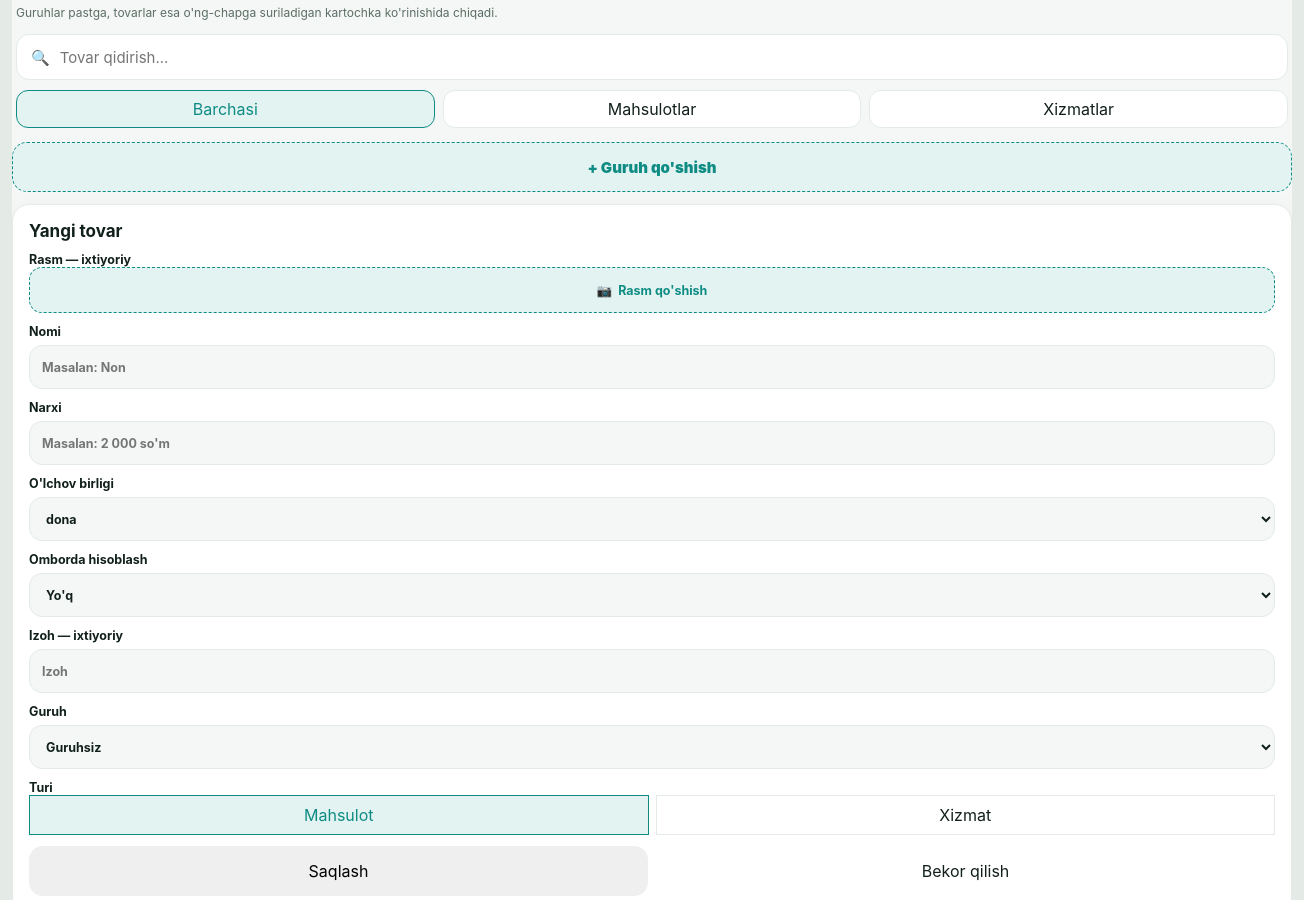
Test: v1656 mahsulot va xizmatlar pariteti › bo'sh mahsulot nomida monolitdagi xatoni ko'rsatadi
Click the button "Saqlash". click: (338, 871)
box: [29,846,648,896]
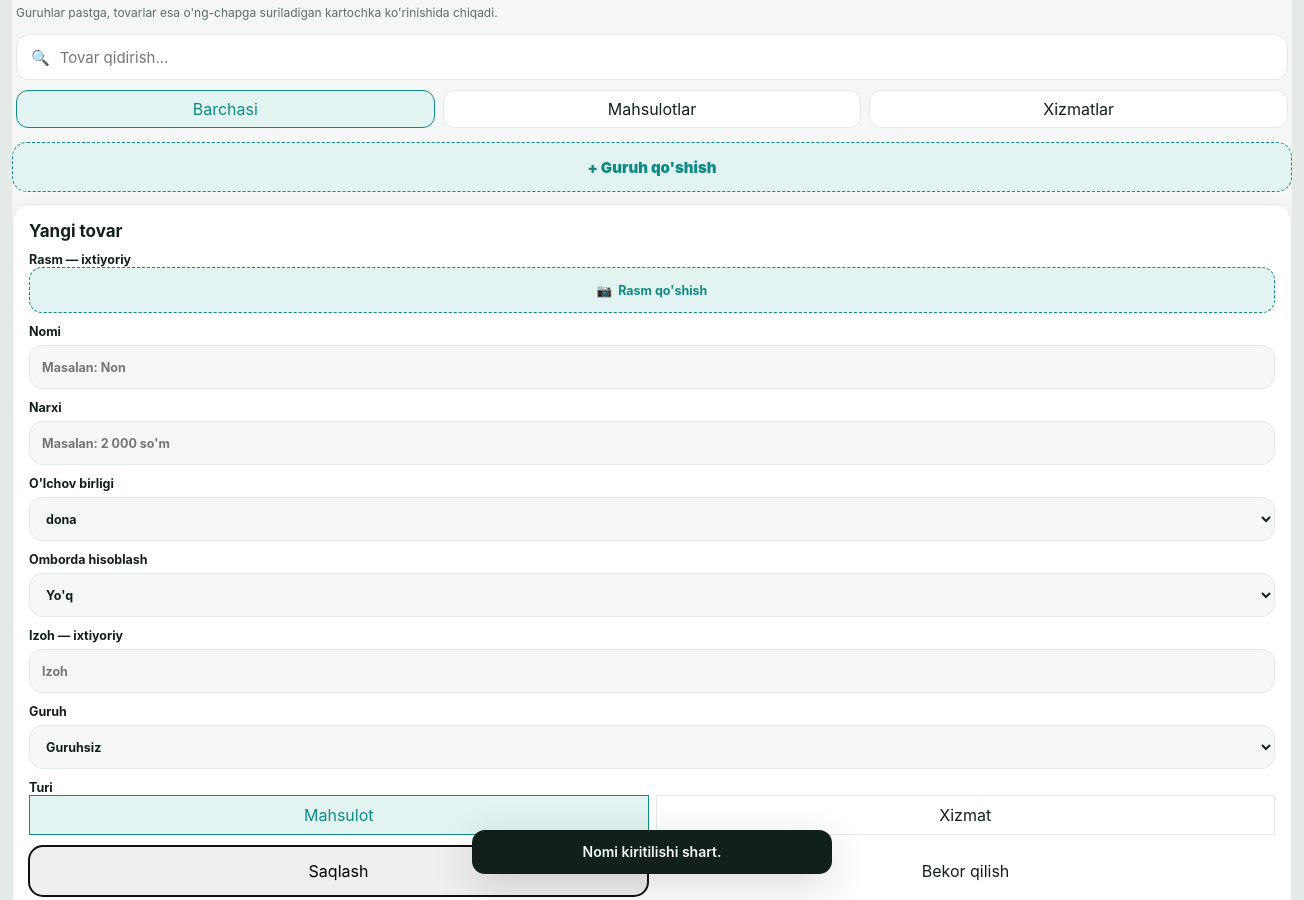
Check: the message reads "Nomi kiritilishi shart.", box [583,843,721,860]
